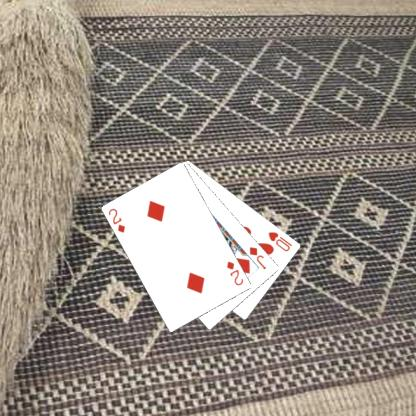10H: (265, 229, 294, 253)
2D: (224, 258, 245, 287), (106, 206, 127, 234)
JD: (247, 244, 268, 271)
